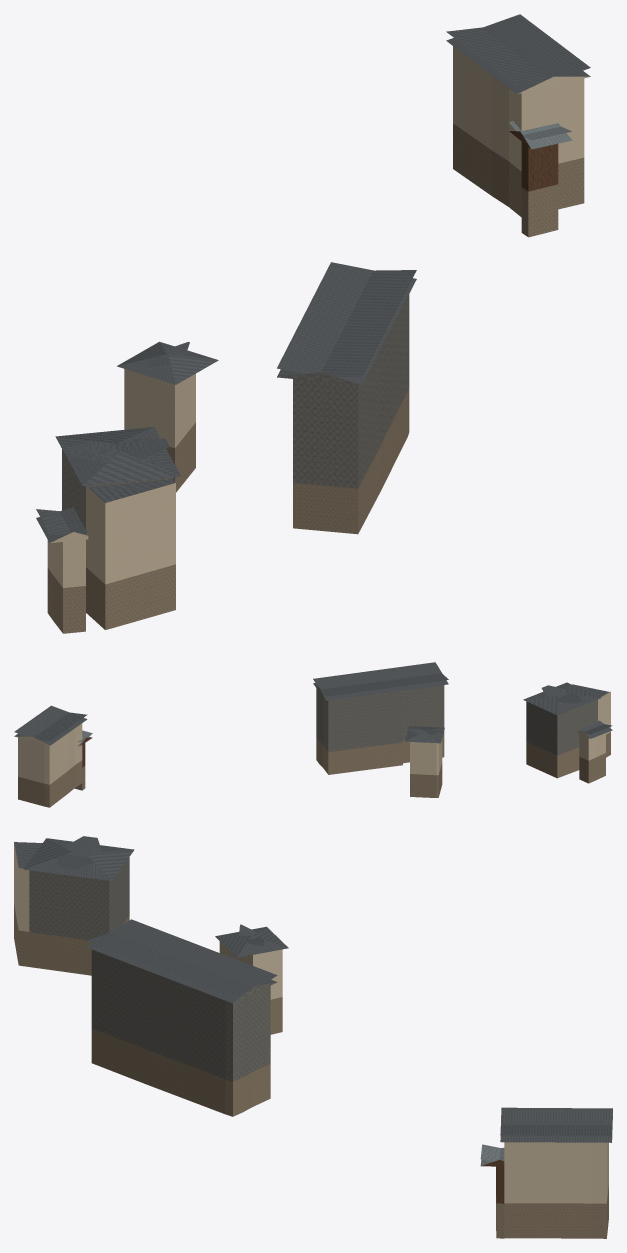
Rendered from bld_c33_-40_445.gltf.
3 renders of one model, top to bottom at view 1: azimuth 30°, elevation 25°; view 2: azimuth 150°, elevation 25°; view 3: azimuth 270°, elevation 25°, orthographic. The views are drawn at different scales.
Visible parts, largest first — view 1: bld_c33_-40_445; view 2: bld_c33_-40_445; view 3: bld_c33_-40_445.
Boxes of the visible parts, box(x1,y1,x2,y2) form: bld_c33_-40_445: box(36, 14, 590, 633); bld_c33_-40_445: box(14, 662, 612, 807); bld_c33_-40_445: box(14, 836, 612, 1238).
Bounding box in the file's own units: 97.37 × 18.3 × 78.91.
9 materials, 9 textured.
